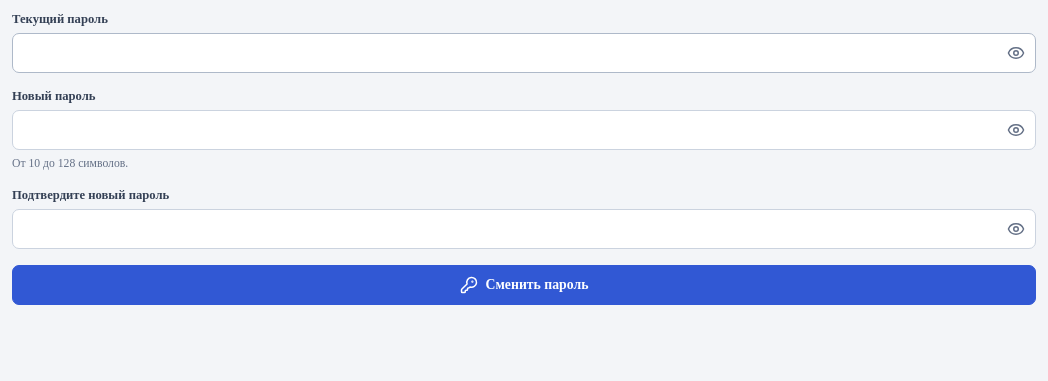
it: PasswordForm › submits matching values and clears fields
Type "old-password" into the password field labelled "Текущий пароль". click: (524, 53)
box: [12, 33, 1036, 73]
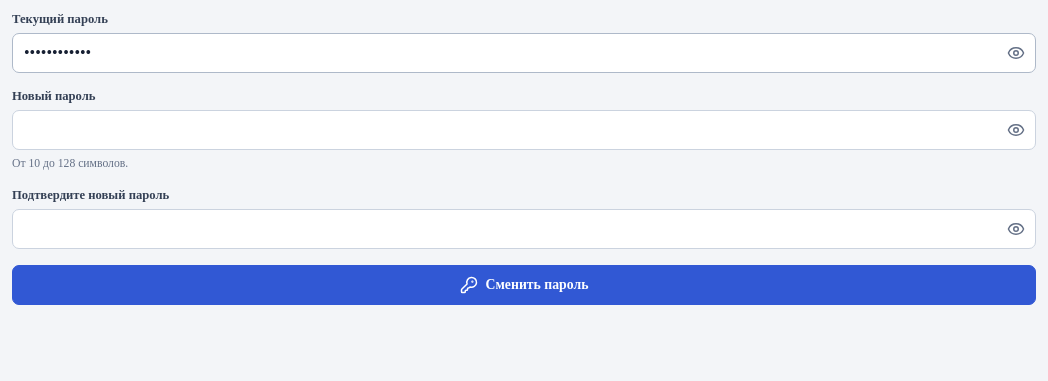
Type "a long new password" into the password field labelled "Новый пароль". click: (524, 130)
box: [12, 110, 1036, 150]
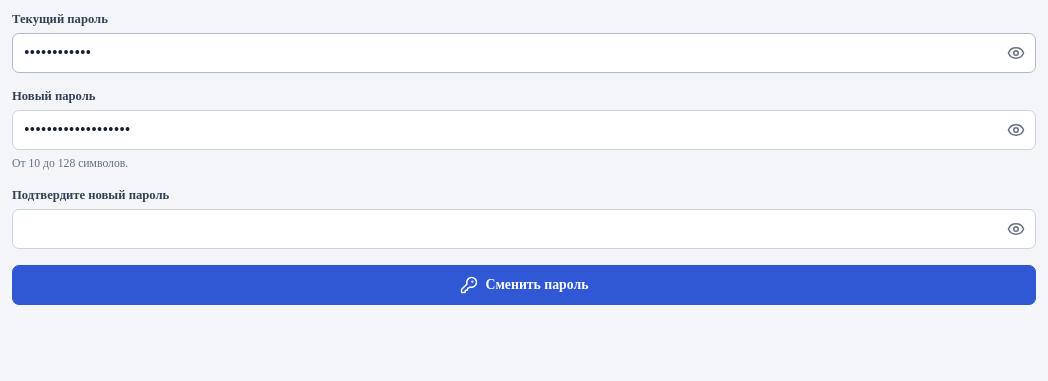
Type "a long new password" into the password field labelled "Подтвердите новый пароль". click: (524, 229)
box: [12, 209, 1036, 249]
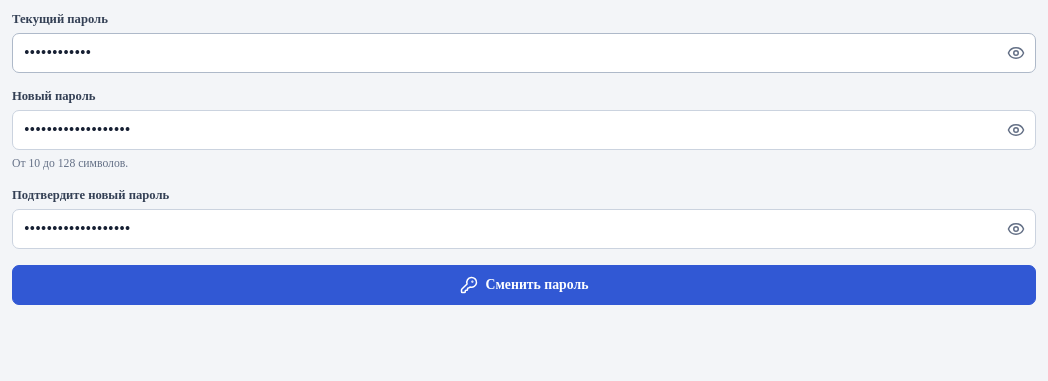
Submit the form named "Сменить пароль"
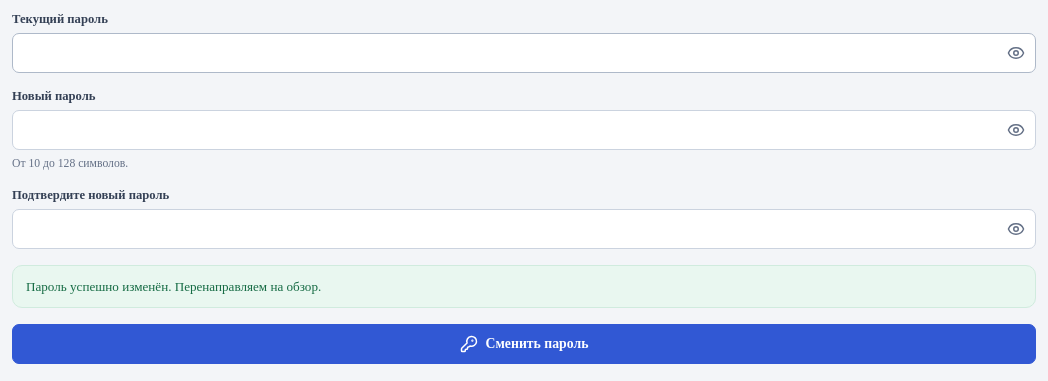
Expected: the message shows "успешно", [26, 279, 321, 294]
Expected: the password field labelled "Текущий пароль" is empty, [12, 33, 1036, 73]
